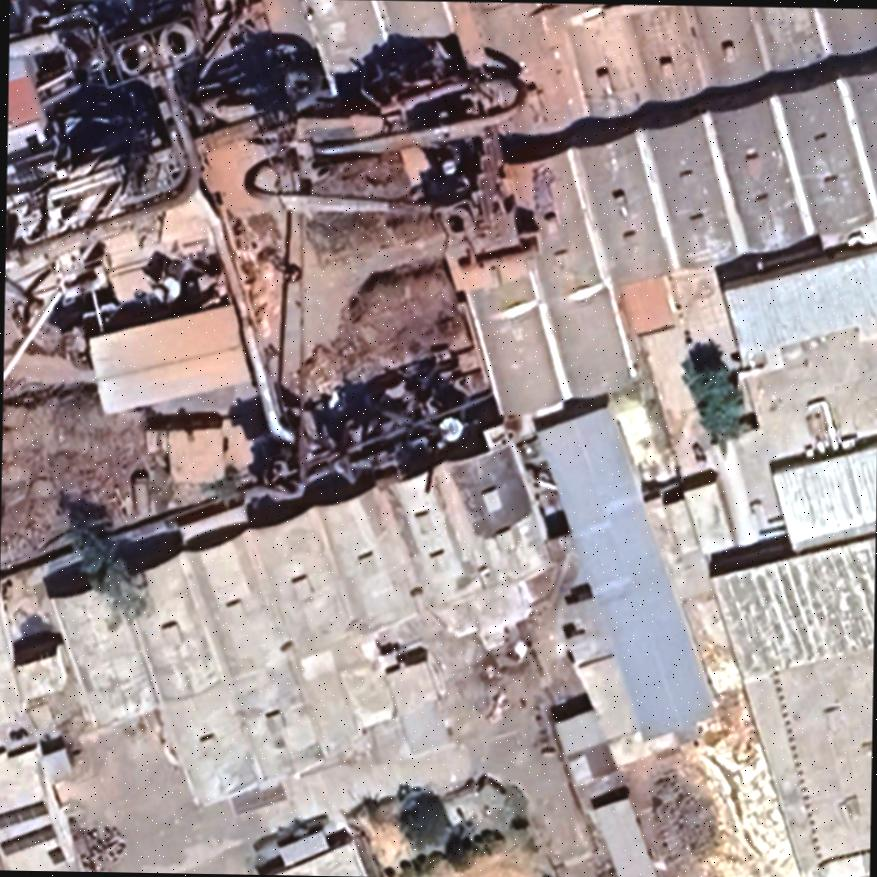Solarpanel: (0, 820, 63, 860), (0, 794, 57, 830), (44, 842, 68, 864)
